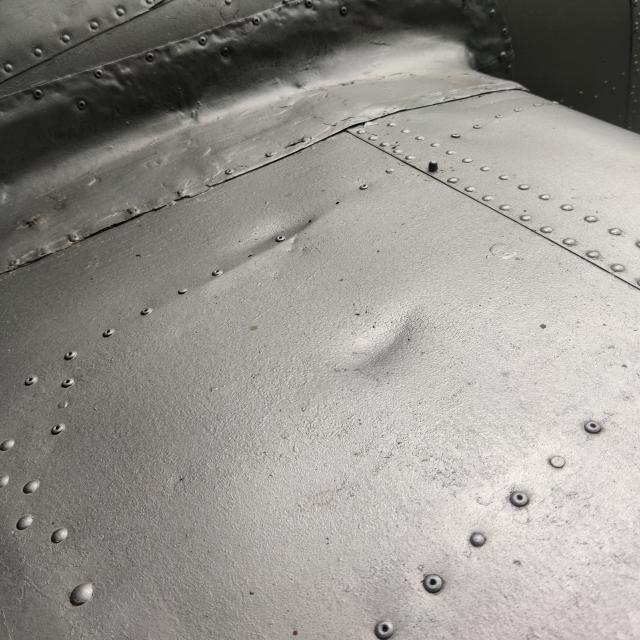dent: (308, 288, 454, 425), (213, 181, 337, 299)
